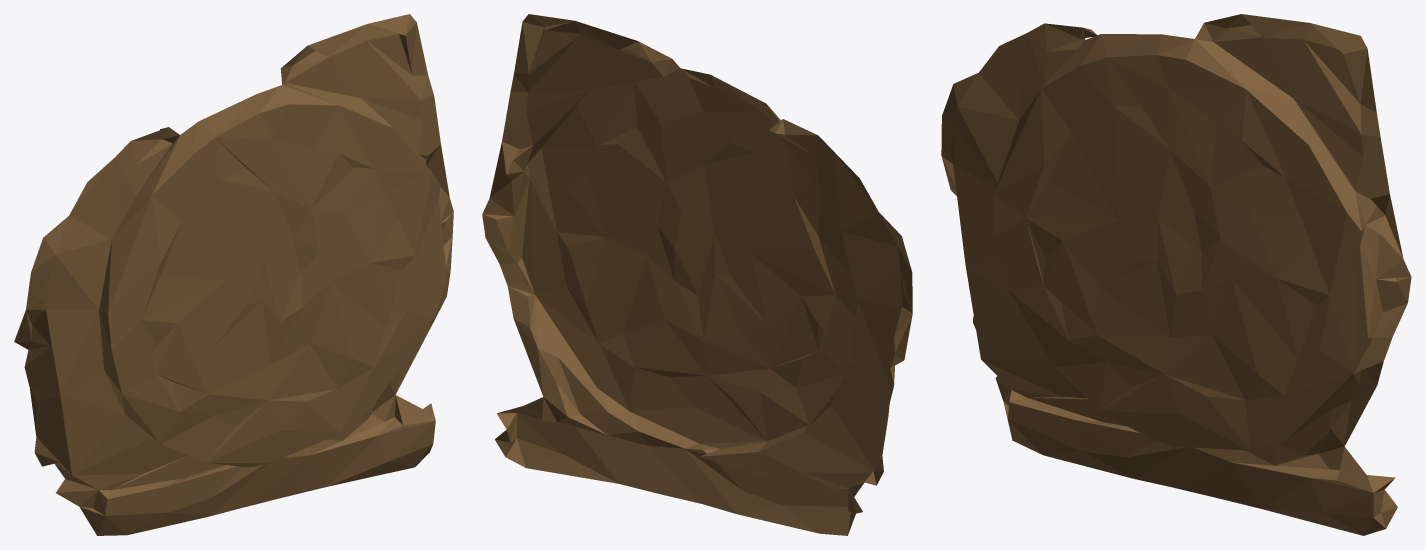
File: calendar-stone.lod2.glb
3 renders of one model, left to right at view 1: azimuth 30°, elevation 25°; view 2: azimuth 150°, elevation 25°; view 3: azimuth 330°, elevation 25°, orthographic. The views are drawn at different scales.
Parts seen in each view (by area): view 1: Object_3; view 2: Object_3; view 3: Object_3.
Boxes of the visible parts, <box> form: Object_3: <box>14,14,453,535</box>; Object_3: <box>482,14,912,535</box>; Object_3: <box>941,14,1411,535</box>.
Bounding box in the file's own units: 3.54 × 3.58 × 0.438.
